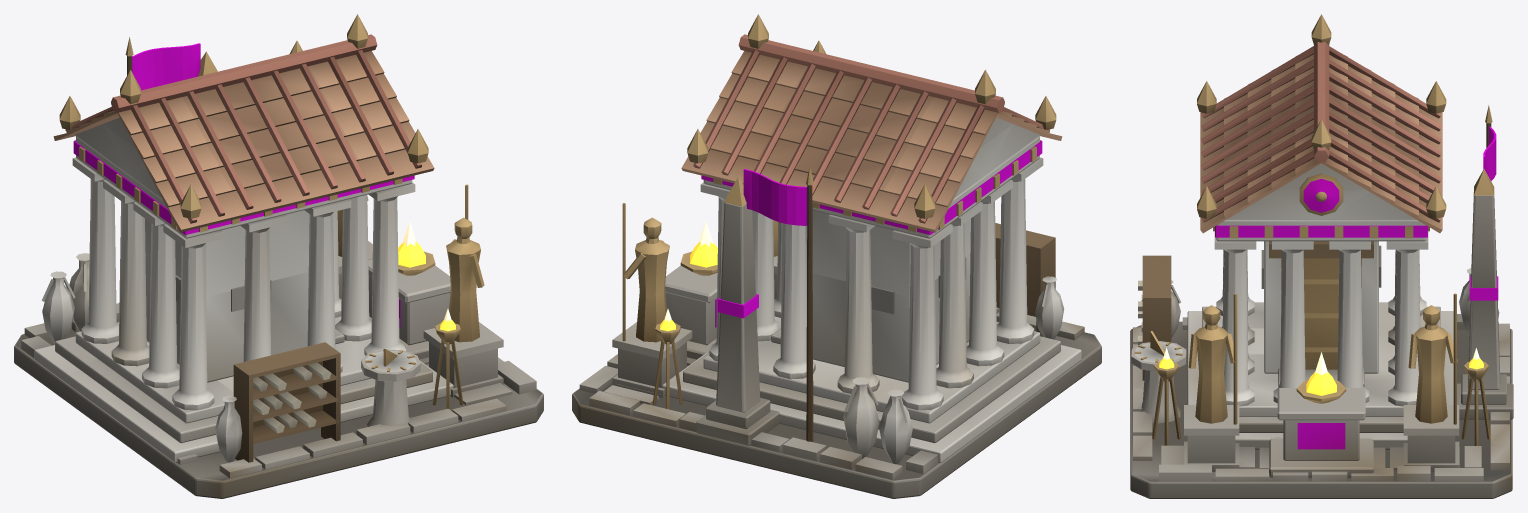
The model's file is tech_center_antiquity.glb.
The picture shows the model from 3 angles, left to right: view 1: azimuth 30°, elevation 25°; view 2: azimuth 150°, elevation 25°; view 3: azimuth 270°, elevation 25°; orthographic projection. The views are drawn at different scales.
Visible parts, largest first — view 1: Body; view 2: Body; view 3: Body.
Boxes of the visible parts, bbox=[...] form: Body: bbox=[14, 14, 543, 498]; Body: bbox=[572, 14, 1101, 498]; Body: bbox=[1130, 14, 1513, 498].
Bounding box in the file's own units: 4 × 3.88 × 4.01.
Materials: 1 (1 with a texture image).
